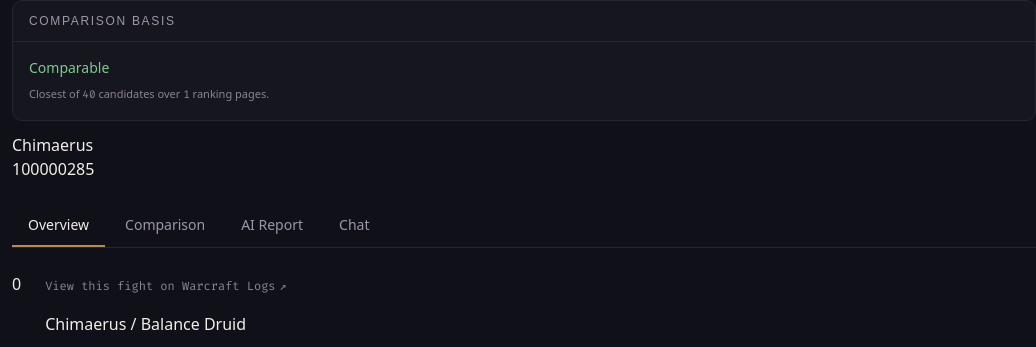
Test: bossContentPanel › drops the sidebar on the AI tab, which carries its own boss picker
The image size is (1036, 347).
expect the text "0" is shown: met, box 12,272 -> 21,294
Click the tab "AI Report": [272, 226] box 225,204 -> 319,246
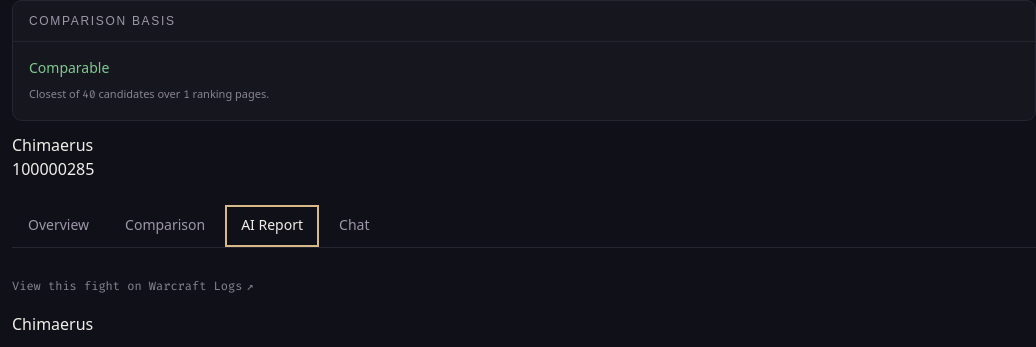
expect the text with test id "sidebar" is gone: met
